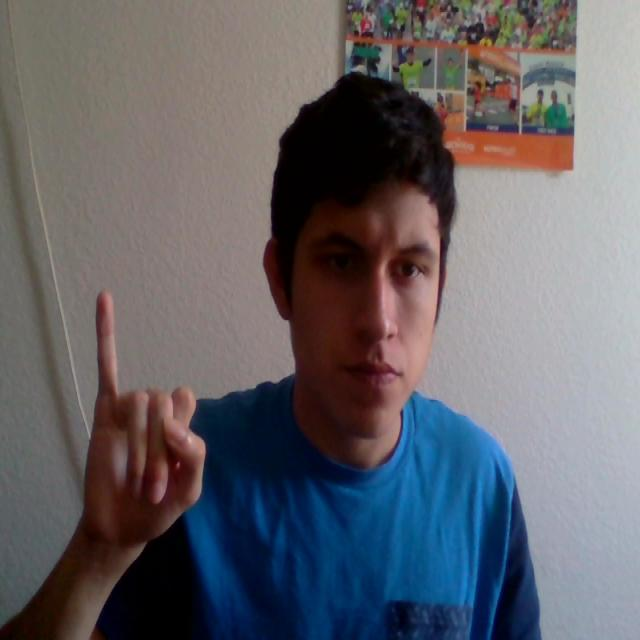I: (56, 255, 233, 602)
